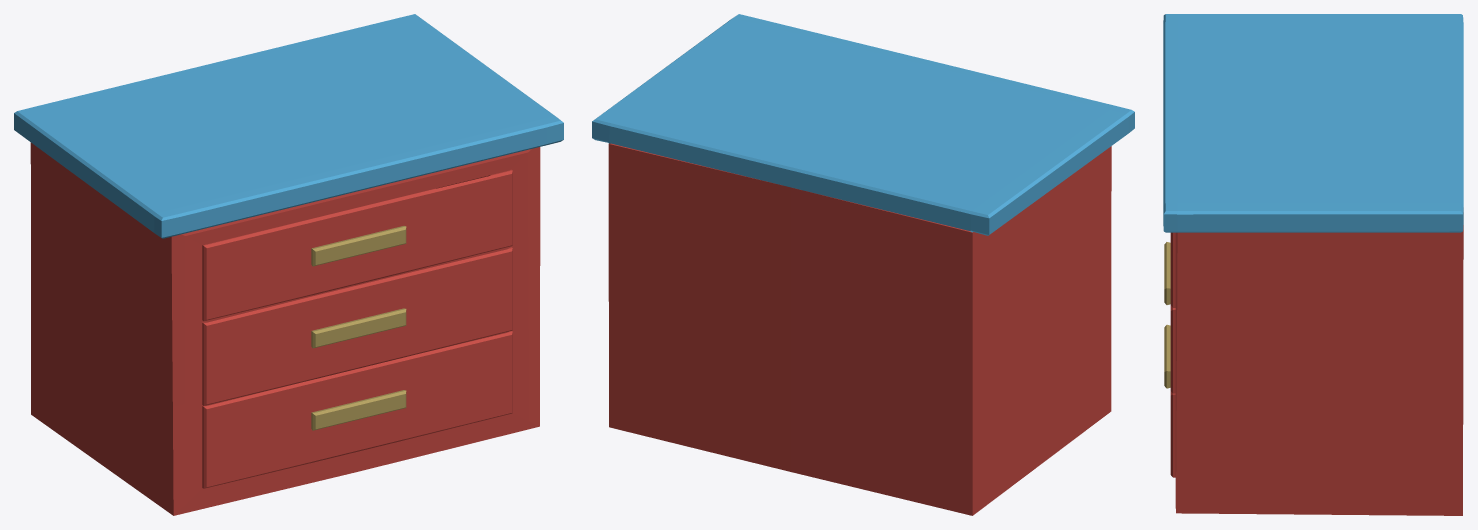
The model's file is LudumDareCabinetDrawers.fbx.
The picture shows the model from 3 angles, left to right: view 1: azimuth 30°, elevation 25°; view 2: azimuth 150°, elevation 25°; view 3: azimuth 270°, elevation 25°; orthographic projection. The views are drawn at different scales.
Parts seen in each view (by area): view 1: Cabinet Drawer.003, Cabinet Drawer.002, Cabinet Drawer, Cabinet Drawer.001; view 2: Cabinet Drawer, Cabinet Drawer.002; view 3: Cabinet Drawer, Cabinet Drawer.002, Cabinet Drawer.003, Cabinet Drawer.001.
Part boxes in pixels (box(x1,y1,x2,y2)): Cabinet Drawer.003: box(202, 169, 512, 488); Cabinet Drawer.002: box(14, 14, 563, 238); Cabinet Drawer: box(30, 142, 540, 515); Cabinet Drawer.001: box(311, 226, 406, 430); Cabinet Drawer: box(608, 143, 1111, 515); Cabinet Drawer.002: box(592, 14, 1134, 235); Cabinet Drawer: box(1175, 225, 1463, 515); Cabinet Drawer.002: box(1163, 14, 1463, 232); Cabinet Drawer.003: box(1170, 232, 1175, 477); Cabinet Drawer.001: box(1164, 242, 1170, 388).
Size of the model in its own units: 116 by 84.54 by 73.65.
